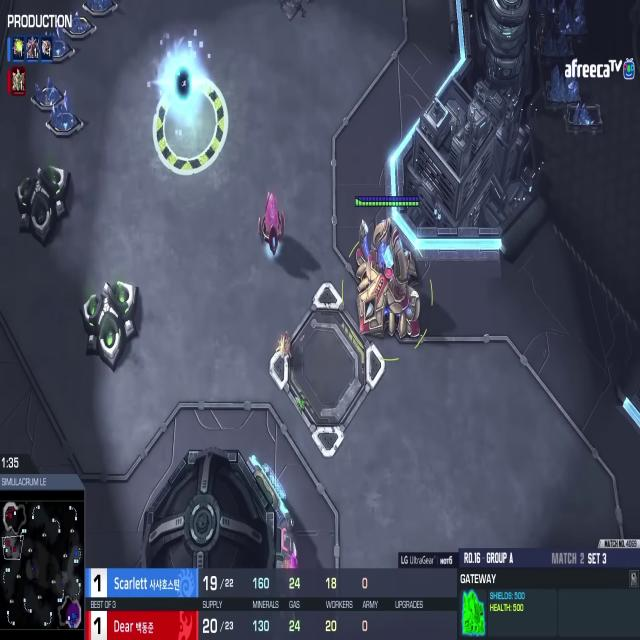probe: (272, 326, 296, 369)
